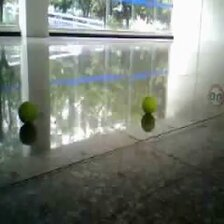tennis: (18, 102, 37, 122), (141, 95, 155, 113)
